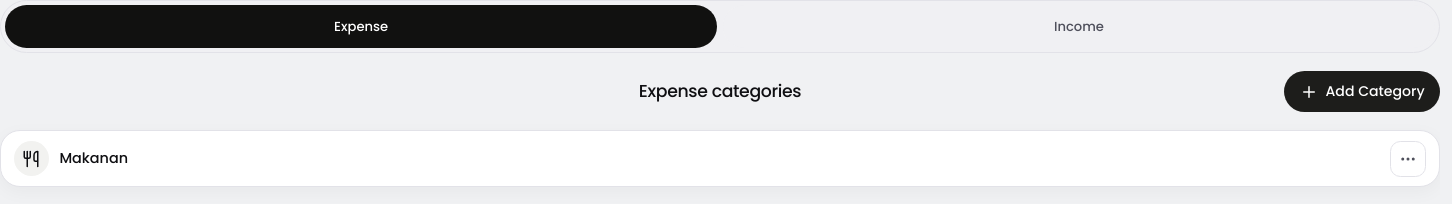
Test case: category manager › separates income and expense categories by tab
Expected: the text "Makanan" is shown, x1=59 y1=148 x2=128 y2=168
Expected: the text "Gaji" is not shown
Click the tab "Income".
click(1079, 27)  # box x1=723 y1=5 x2=1435 y2=48
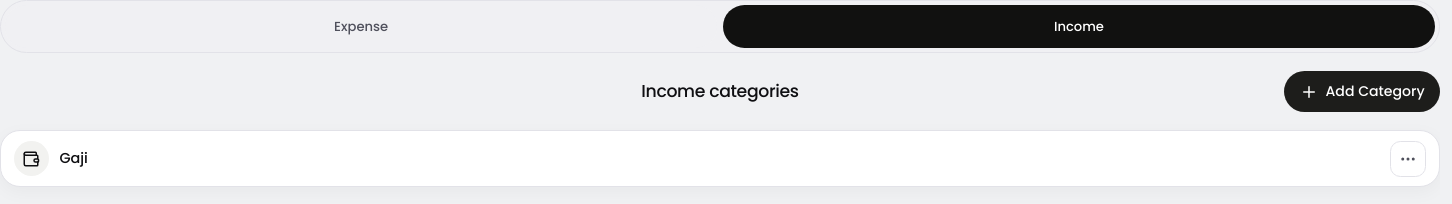
Result: the text "Gaji" is shown at x1=59 y1=148 x2=88 y2=168
Result: the text "Makanan" is gone
